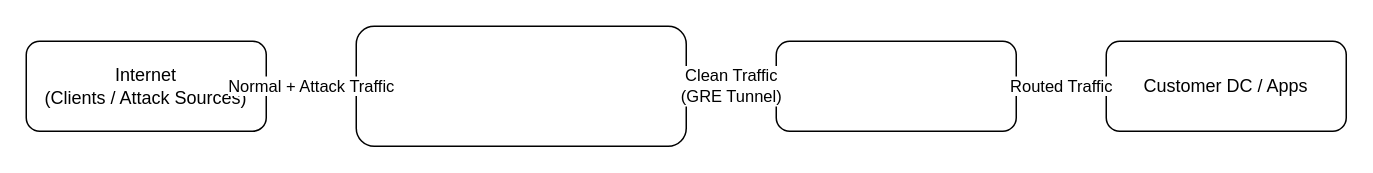
This 1373x173 diagram has some shape labels left out. The shapes that lost their labels are listed below. From the top down, each one's centre as x and y in pixels, then its label:
At (520,85): "F5 Distributed Cloud DDoS Scrubbing Centers".
At (895,85): "BIG-IP CPE (GRE + BGP)".
